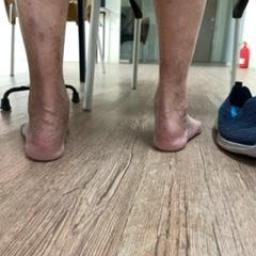Back View -Both Feet-: (9, 49, 209, 185)
